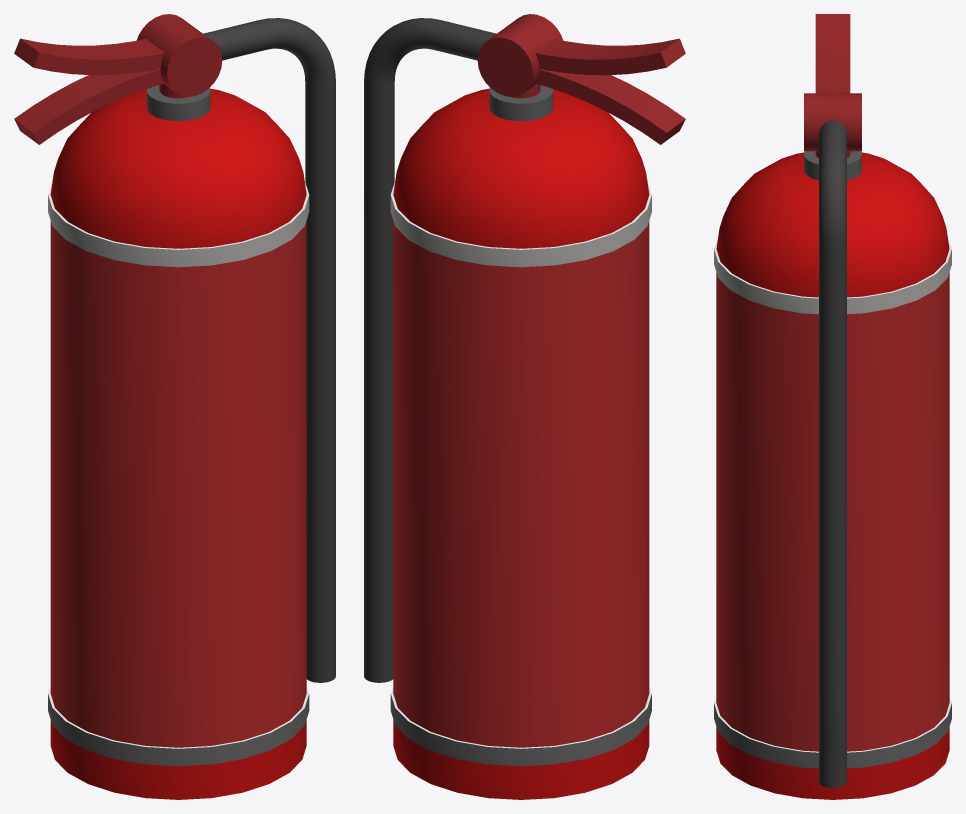
The model's file is 소화기.fbx.
The picture shows the model from 3 angles, left to right: view 1: azimuth 30°, elevation 25°; view 2: azimuth 150°, elevation 25°; view 3: azimuth 270°, elevation 25°; orthographic projection. The views are drawn at different scales.
Visible parts, largest first — view 1: ArchiCAD_STL_Unit=MM_Scale=100_2, ArchiCAD_STL_Unit=MM_Scale=100, ArchiCAD_STL_Unit=MM_Scale=100_5, ArchiCAD_STL_Unit=MM_Scale=100_25, ArchiCAD_STL_Unit=MM_Scale=100_31, ArchiCAD_STL_Unit=MM_Scale=100_27, ArchiCAD_STL_Unit=MM_Scale=100_22, ArchiCAD_STL_Unit=MM_Scale=100_15, ArchiCAD_STL_Unit=MM_Scale=100_10, ArchiCAD_STL_Unit=MM_Scale=100_14, ArchiCAD_STL_Unit=MM_Scale=100_21, ArchiCAD_STL_Unit=MM_Scale=100_13 (+3 smaller); view 2: ArchiCAD_STL_Unit=MM_Scale=100_2, ArchiCAD_STL_Unit=MM_Scale=100, ArchiCAD_STL_Unit=MM_Scale=100_5, ArchiCAD_STL_Unit=MM_Scale=100_25, ArchiCAD_STL_Unit=MM_Scale=100_31, ArchiCAD_STL_Unit=MM_Scale=100_27, ArchiCAD_STL_Unit=MM_Scale=100_23, ArchiCAD_STL_Unit=MM_Scale=100_15, ArchiCAD_STL_Unit=MM_Scale=100_11, ArchiCAD_STL_Unit=MM_Scale=100_20, ArchiCAD_STL_Unit=MM_Scale=100_21, ArchiCAD_STL_Unit=MM_Scale=100_13 (+3 smaller); view 3: ArchiCAD_STL_Unit=MM_Scale=100_2, ArchiCAD_STL_Unit=MM_Scale=100, ArchiCAD_STL_Unit=MM_Scale=100_5, ArchiCAD_STL_Unit=MM_Scale=100_25, ArchiCAD_STL_Unit=MM_Scale=100_27, ArchiCAD_STL_Unit=MM_Scale=100_31, ArchiCAD_STL_Unit=MM_Scale=100_21, ArchiCAD_STL_Unit=MM_Scale=100_13, ArchiCAD_STL_Unit=MM_Scale=100_7, ArchiCAD_STL_Unit=MM_Scale=100_6, ArchiCAD_STL_Unit=MM_Scale=100_32, ArchiCAD_STL_Unit=MM_Scale=100_28 (+1 smaller).
Part boxes in pixels (left/top/right/bottom): ArchiCAD_STL_Unit=MM_Scale=100_2: left=50, top=221, right=306, bottom=747; ArchiCAD_STL_Unit=MM_Scale=100: left=50, top=88, right=306, bottom=248; ArchiCAD_STL_Unit=MM_Scale=100_5: left=203, top=18, right=335, bottom=682; ArchiCAD_STL_Unit=MM_Scale=100_25: left=50, top=720, right=306, bottom=799; ArchiCAD_STL_Unit=MM_Scale=100_31: left=48, top=195, right=309, bottom=267; ArchiCAD_STL_Unit=MM_Scale=100_27: left=48, top=694, right=309, bottom=766; ArchiCAD_STL_Unit=MM_Scale=100_22: left=167, top=37, right=222, bottom=96; ArchiCAD_STL_Unit=MM_Scale=100_15: left=14, top=69, right=159, bottom=132; ArchiCAD_STL_Unit=MM_Scale=100_10: left=33, top=52, right=164, bottom=75; ArchiCAD_STL_Unit=MM_Scale=100_14: left=33, top=69, right=164, bottom=144; ArchiCAD_STL_Unit=MM_Scale=100_21: left=136, top=14, right=212, bottom=91; ArchiCAD_STL_Unit=MM_Scale=100_13: left=76, top=39, right=164, bottom=59; ArchiCAD_STL_Unit=MM_Scale=100_2: left=393, top=221, right=649, bottom=747; ArchiCAD_STL_Unit=MM_Scale=100: left=393, top=88, right=649, bottom=248; ArchiCAD_STL_Unit=MM_Scale=100_5: left=364, top=18, right=496, bottom=682; ArchiCAD_STL_Unit=MM_Scale=100_25: left=393, top=720, right=649, bottom=799; ArchiCAD_STL_Unit=MM_Scale=100_31: left=390, top=195, right=651, bottom=267; ArchiCAD_STL_Unit=MM_Scale=100_27: left=390, top=694, right=651, bottom=766; ArchiCAD_STL_Unit=MM_Scale=100_23: left=477, top=37, right=532, bottom=96; ArchiCAD_STL_Unit=MM_Scale=100_15: left=540, top=69, right=685, bottom=132; ArchiCAD_STL_Unit=MM_Scale=100_11: left=535, top=52, right=666, bottom=75; ArchiCAD_STL_Unit=MM_Scale=100_20: left=535, top=69, right=666, bottom=144; ArchiCAD_STL_Unit=MM_Scale=100_21: left=487, top=14, right=563, bottom=91; ArchiCAD_STL_Unit=MM_Scale=100_13: left=535, top=39, right=641, bottom=59; ArchiCAD_STL_Unit=MM_Scale=100_2: left=716, top=272, right=949, bottom=751; ArchiCAD_STL_Unit=MM_Scale=100: left=716, top=152, right=949, bottom=297; ArchiCAD_STL_Unit=MM_Scale=100_5: left=819, top=120, right=846, bottom=787; ArchiCAD_STL_Unit=MM_Scale=100_25: left=716, top=727, right=949, bottom=799; ArchiCAD_STL_Unit=MM_Scale=100_27: left=714, top=703, right=951, bottom=768; ArchiCAD_STL_Unit=MM_Scale=100_31: left=714, top=249, right=951, bottom=314; ArchiCAD_STL_Unit=MM_Scale=100_21: left=804, top=93, right=861, bottom=151; ArchiCAD_STL_Unit=MM_Scale=100_13: left=815, top=44, right=850, bottom=93; ArchiCAD_STL_Unit=MM_Scale=100_7: left=815, top=14, right=850, bottom=43; ArchiCAD_STL_Unit=MM_Scale=100_6: left=815, top=30, right=850, bottom=57; ArchiCAD_STL_Unit=MM_Scale=100_32: left=714, top=236, right=951, bottom=298; ArchiCAD_STL_Unit=MM_Scale=100_28: left=714, top=697, right=951, bottom=752.
Bounding box in the file's own units: 6.63 × 4.83 × 15.04.
